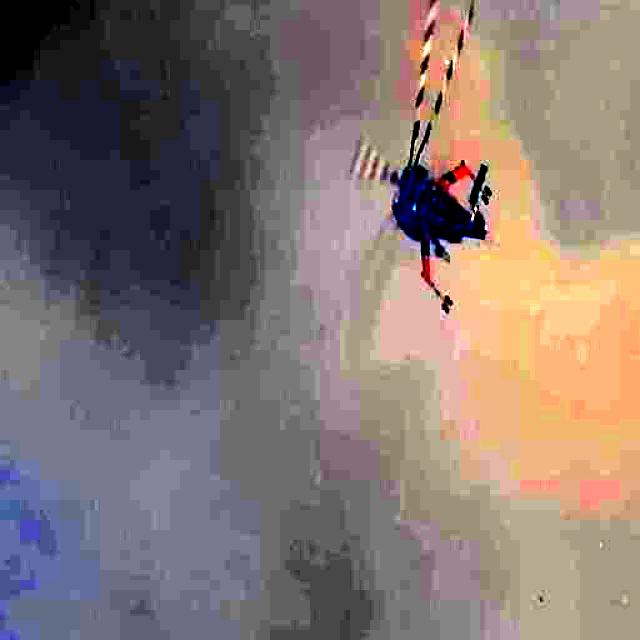drone: (358, 14, 502, 316)
